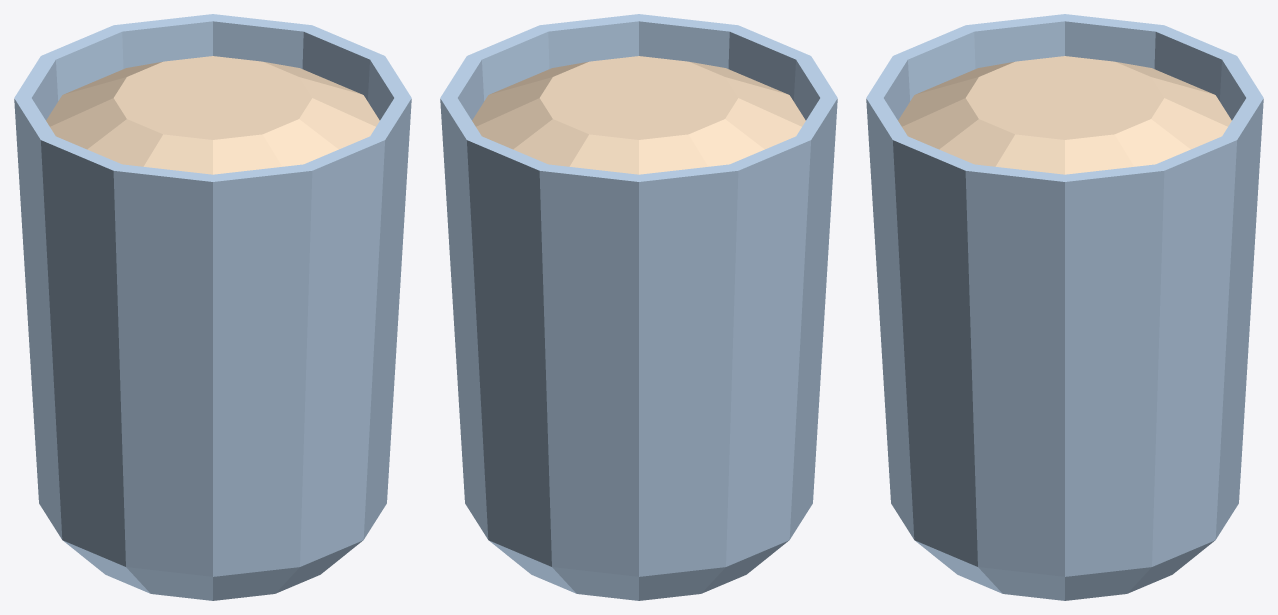
File: teh-tarik.glb
3 renders of one model, left to right at view 1: azimuth 30°, elevation 25°; view 2: azimuth 150°, elevation 25°; view 3: azimuth 270°, elevation 25°, orthographic.
Visible parts, largest first — view 1: teh-tarik; view 2: teh-tarik; view 3: teh-tarik.
Part boxes in pixels (box(x1,y1,x2,y2)): teh-tarik: box(14, 14, 411, 600); teh-tarik: box(440, 14, 837, 600); teh-tarik: box(866, 14, 1263, 600).
Bounding box in the file's own units: 0.16 × 0.2 × 0.16.
1 material, 1 textured.
